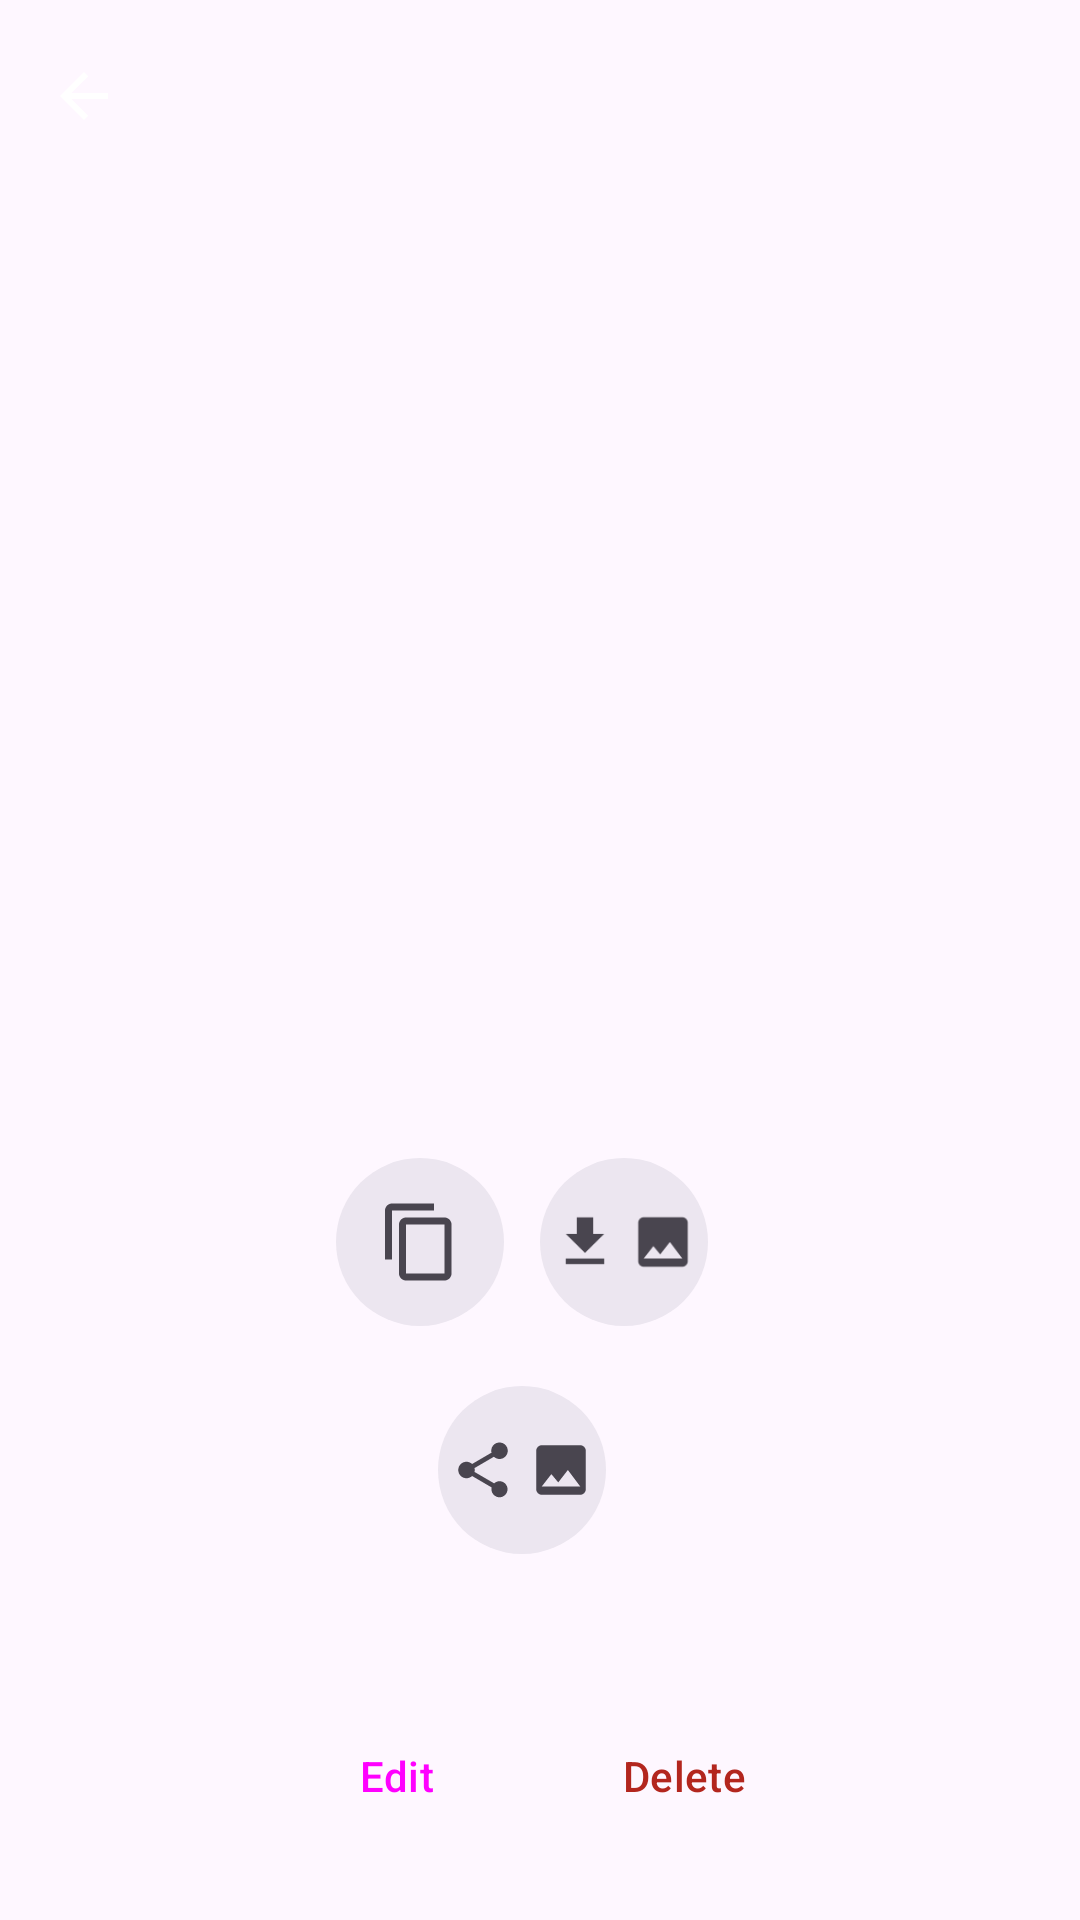

Icon click points for this 1080px×1920px phone screenshot, format point (x, y):
download: point (585, 1241)
share: point (483, 1470)
